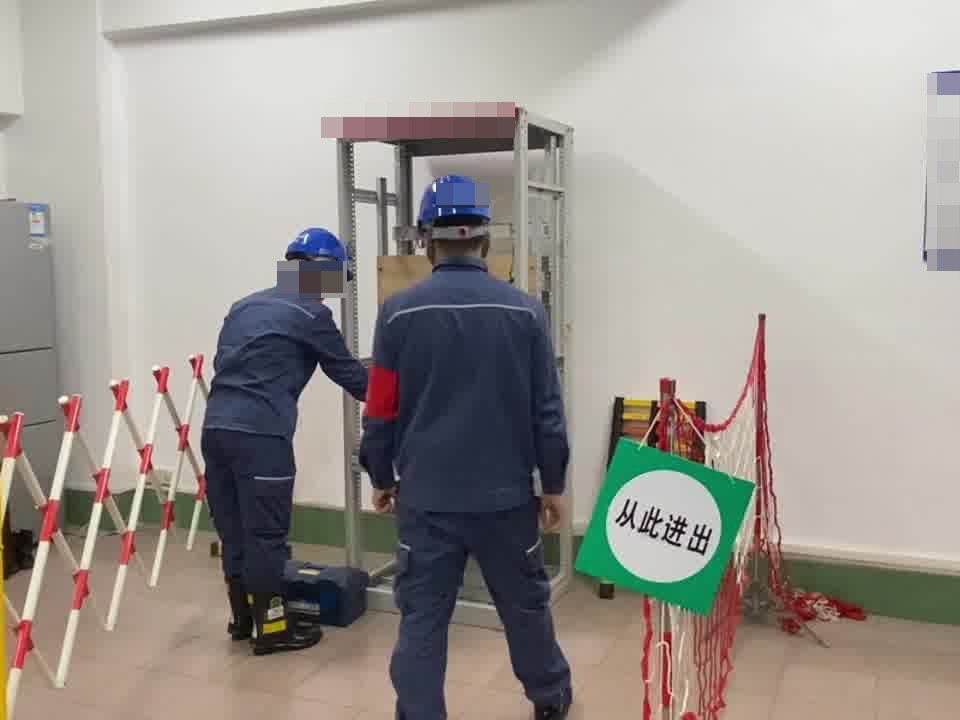badge: (361, 364, 403, 424)
downsuit: (387, 511, 572, 720), (201, 438, 304, 597)
halt: (416, 173, 497, 262), (284, 226, 352, 298)
hand: (539, 493, 566, 527), (369, 487, 394, 512)
inear: (310, 260, 331, 296)
intosign: (572, 442, 759, 618)
person: (365, 170, 584, 720), (194, 223, 363, 640)
shoe: (225, 594, 323, 657)
upsuit: (363, 264, 569, 507), (203, 278, 363, 431)
